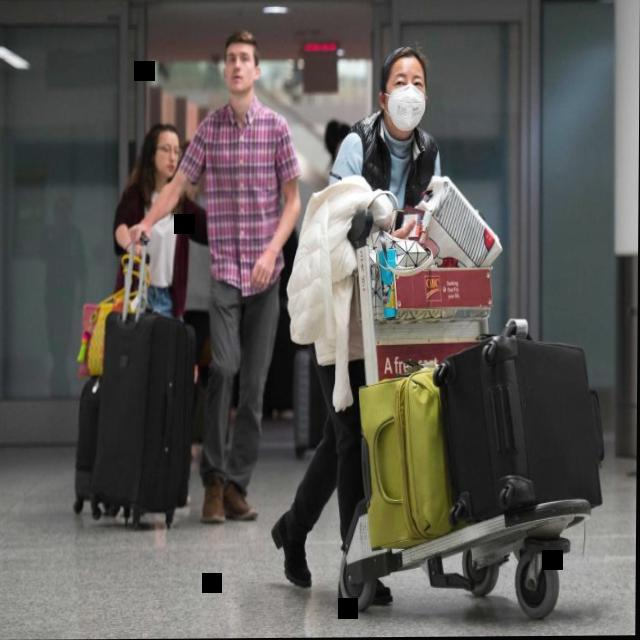Mask: (372, 41, 434, 141)
NO-Mask: (218, 25, 264, 100), (141, 117, 184, 183)
